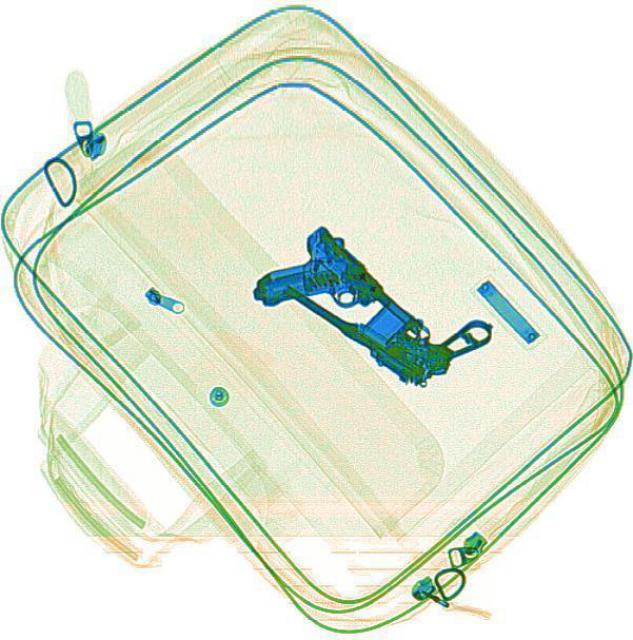Gun: (276, 214, 497, 403), (244, 221, 427, 389)
